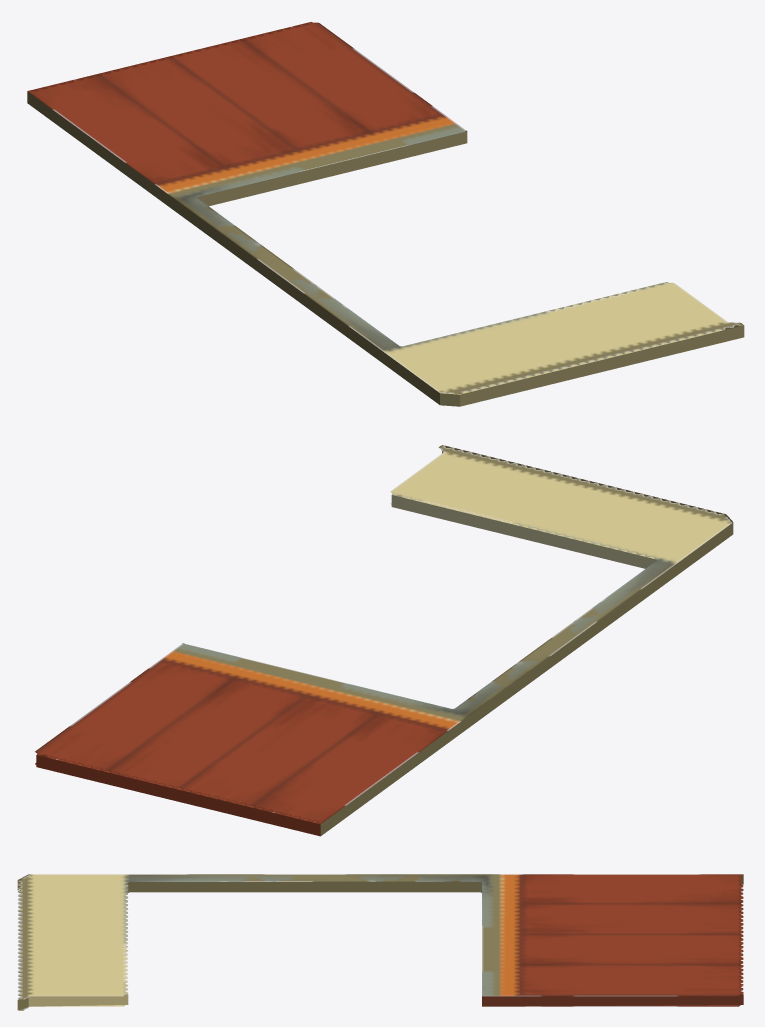
The model's file is pz_native_location_restaurant_spiffos_01_35_frame.obj.
3 views of the same model, one above another, from view 1: azimuth 30°, elevation 25°; view 2: azimuth 150°, elevation 25°; view 3: azimuth 270°, elevation 25° (orthographic). The views are drawn at different scales.
Parts seen in each view (by area): view 1: pz_native_location_restaurant_spiffos_01_35_frame; view 2: pz_native_location_restaurant_spiffos_01_35_frame; view 3: pz_native_location_restaurant_spiffos_01_35_frame.
Boxes of the visible parts, left/top/right/bottom form: pz_native_location_restaurant_spiffos_01_35_frame: left=27, top=22, right=744, bottom=406; pz_native_location_restaurant_spiffos_01_35_frame: left=35, top=445, right=733, bottom=836; pz_native_location_restaurant_spiffos_01_35_frame: left=17, top=874, right=743, bottom=1010.
Size of the model in its own units: 1.08 by 0.04 by 2.55.
1 material, 1 textured.
